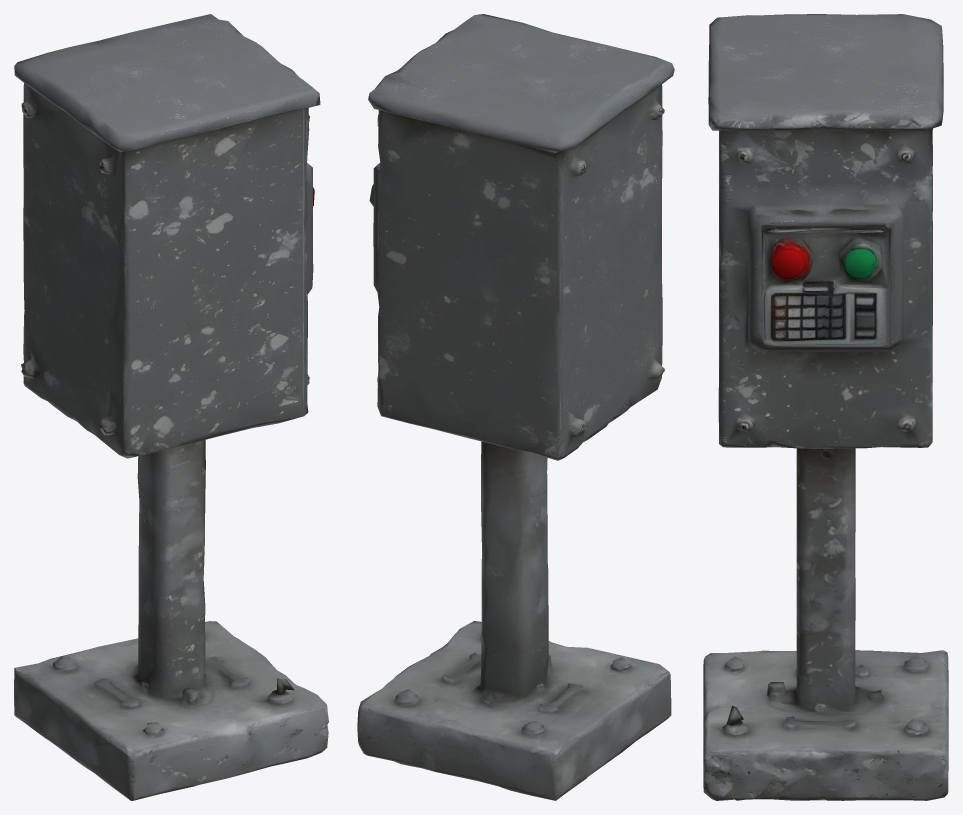
File: card_reader.dd03bf76fe.glb
The picture shows the model from 3 angles, left to right: view 1: azimuth 30°, elevation 25°; view 2: azimuth 150°, elevation 25°; view 3: azimuth 270°, elevation 25°; orthographic projection. The views are drawn at different scales.
Visible parts, largest first — view 1: card_reader; view 2: card_reader; view 3: card_reader.
Boxes of the visible parts, bbox=[...] form: card_reader: bbox=[14, 14, 328, 800]; card_reader: bbox=[357, 14, 674, 800]; card_reader: bbox=[703, 14, 948, 800].
Bounding box in the file's own units: 0.4322 × 1.2 × 0.3881.
1 material, 1 textured.
